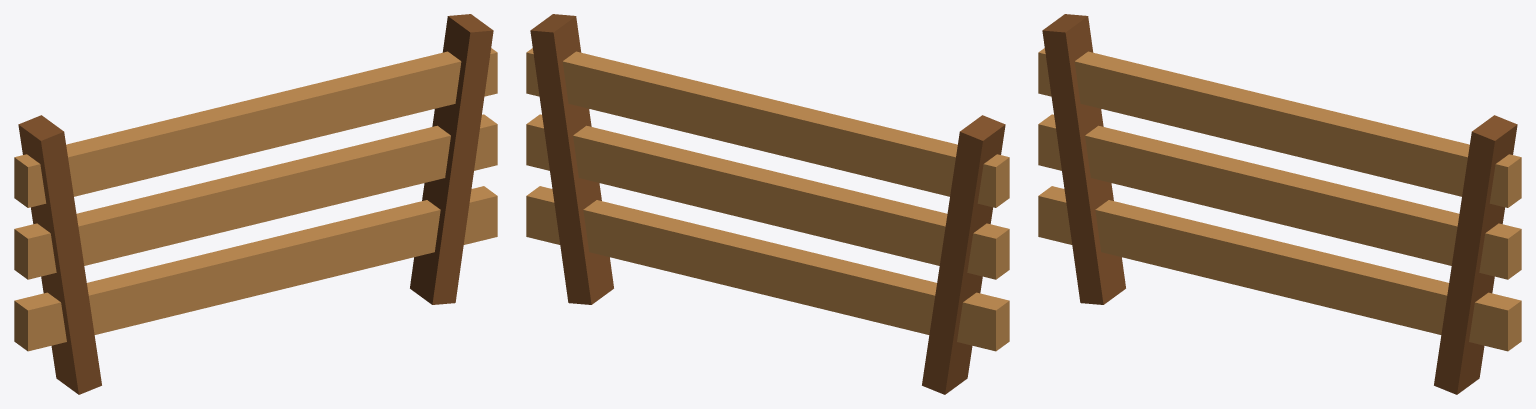
File: wooden_barricade.glb
3 views of the same model, side by side, from view 1: azimuth 30°, elevation 25°; view 2: azimuth 150°, elevation 25°; view 3: azimuth 330°, elevation 25° (orthographic).
Parts seen in each view (by area): view 1: wooden_barricade; view 2: wooden_barricade; view 3: wooden_barricade.
Part boxes in pixels (x1,y1,x2,y2): wooden_barricade: (14,14,497,394); wooden_barricade: (526,14,1009,394); wooden_barricade: (1038,14,1521,394).
Bounding box in the file's own units: 2.4 × 1.3 × 0.2.
